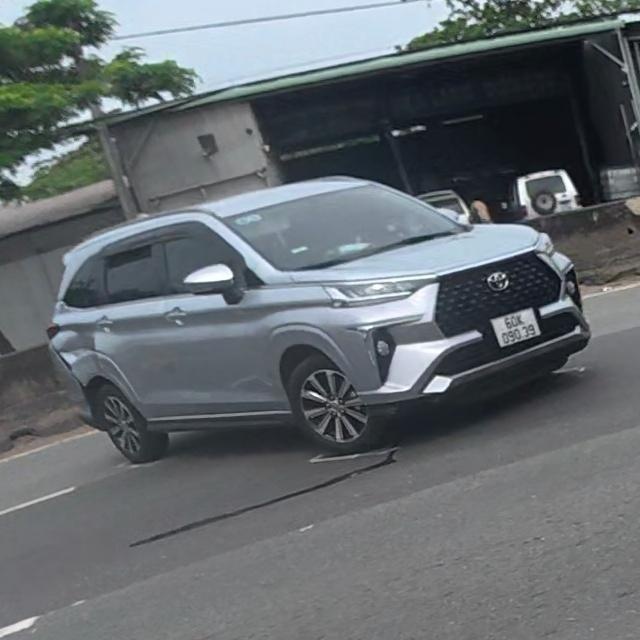license-plate: (490, 307, 541, 347)
